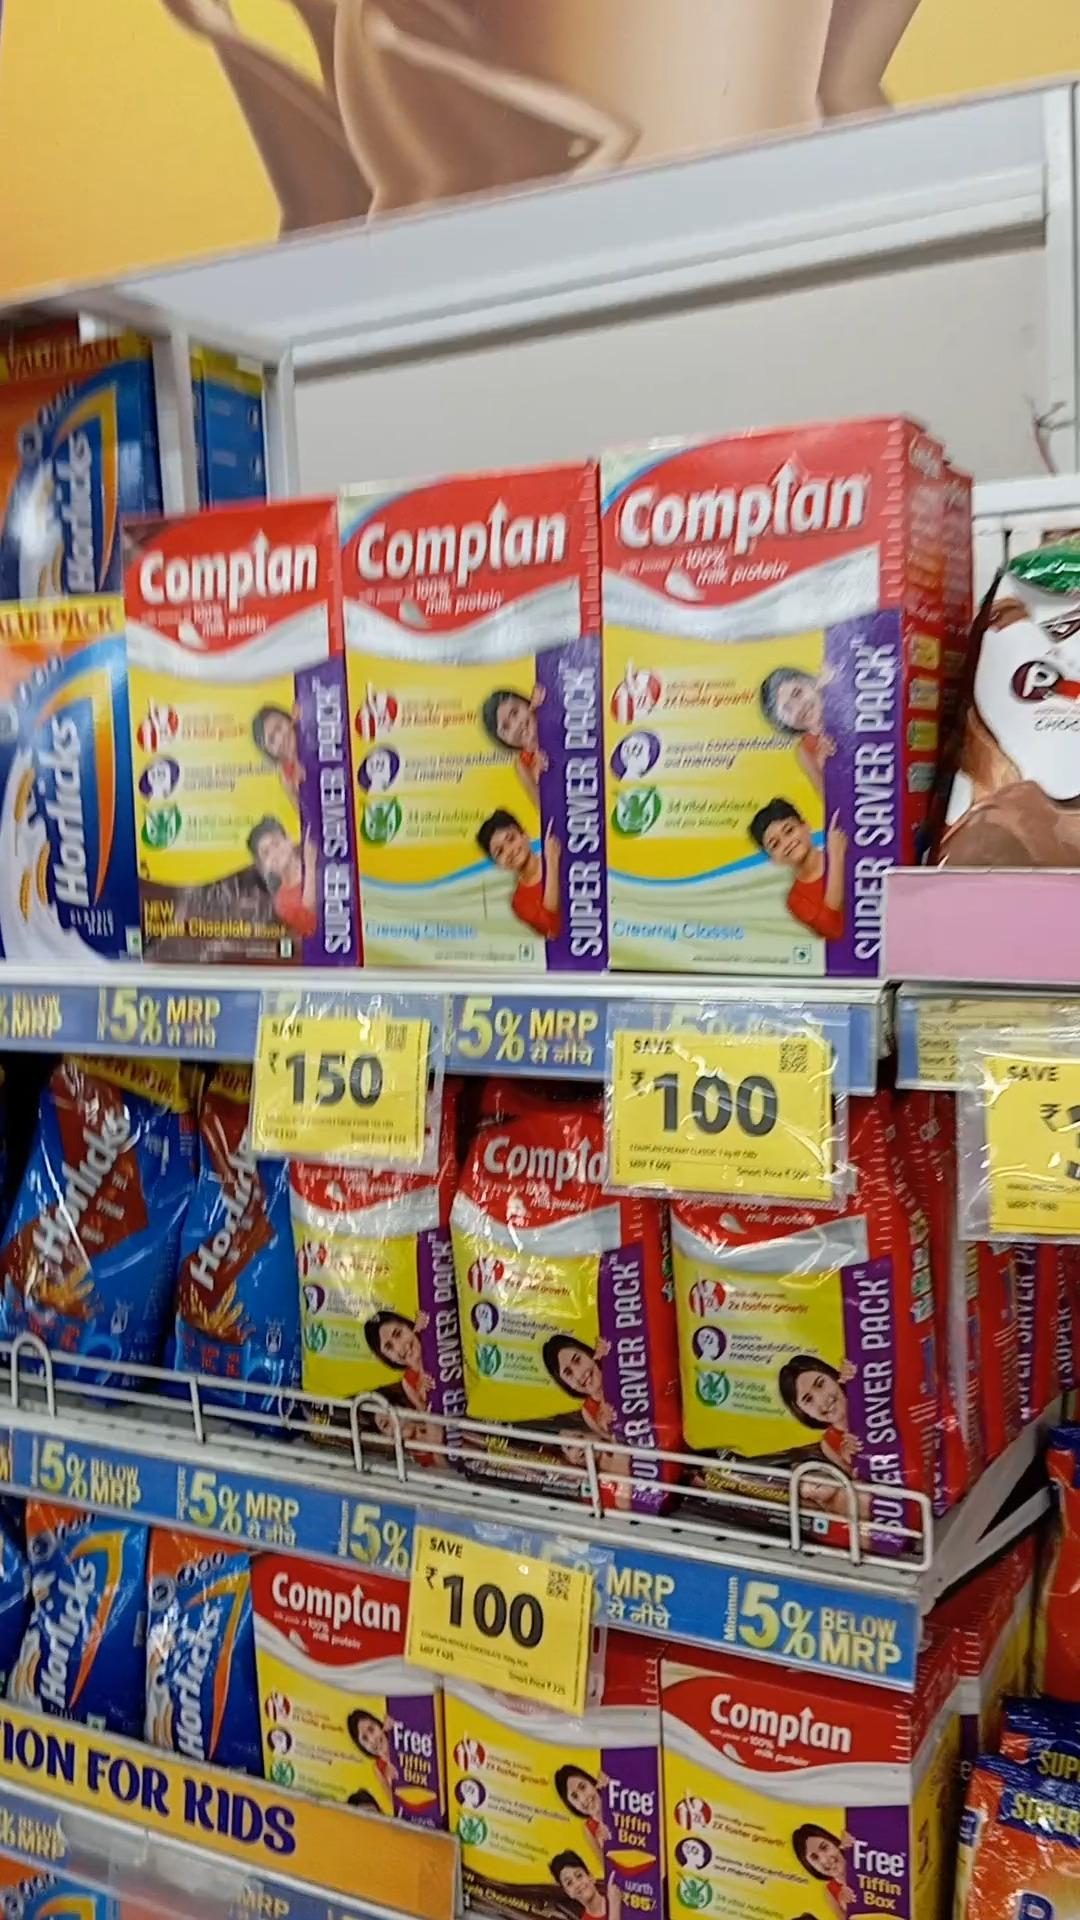COMPLAN_CHOCOLATE_1_KG_PACK: (132, 491, 351, 964)
COMPLAN_RC_POUCH_700_GMS_12: (469, 1092, 675, 1515), (683, 1192, 922, 1545), (301, 1162, 463, 1465)
HORLICK_CHOCOLATE_750_G_POUCH: (0, 1055, 166, 1399), (178, 1069, 297, 1427)
HORLICK_CLASSIC_MALT_750_G_POUCH: (141, 1528, 256, 1763), (20, 1509, 137, 1731)
